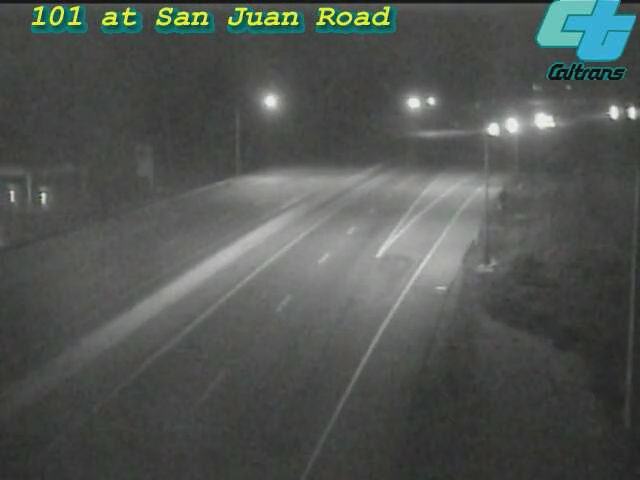vehicle: (524, 98, 574, 148), (469, 104, 519, 154), (514, 96, 564, 146), (485, 101, 535, 151), (589, 88, 639, 138), (605, 88, 640, 138)
